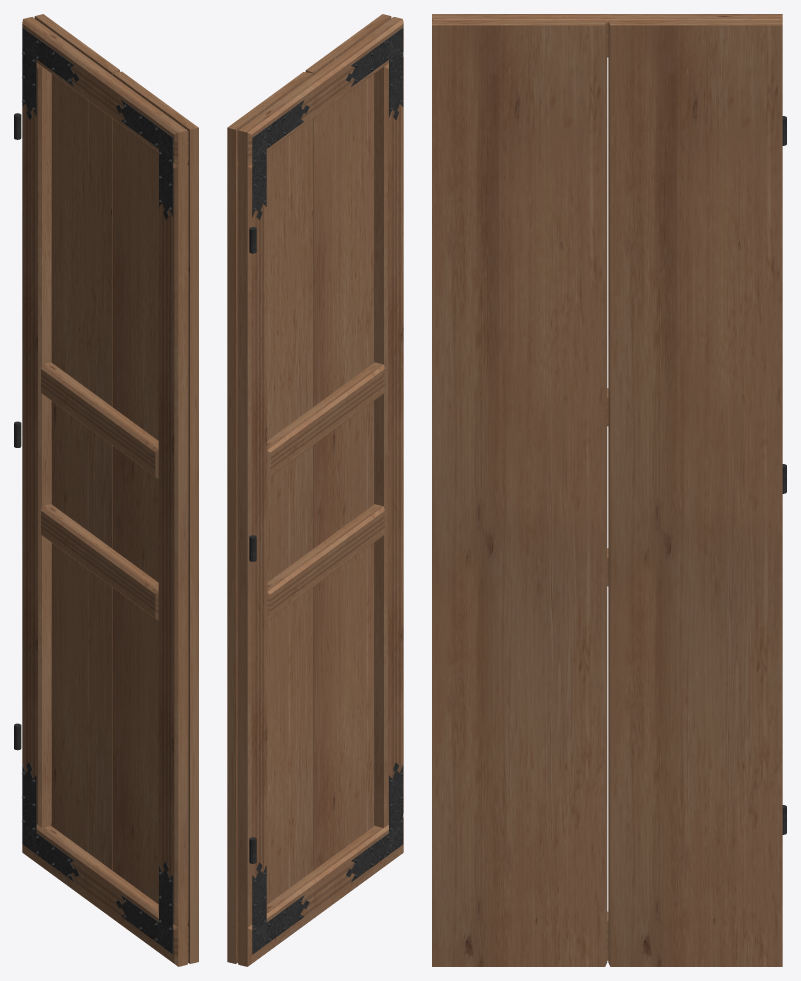
The model's file is SM_JSH_DoorB.fbx.
The picture shows the model from 3 angles, left to right: view 1: azimuth 30°, elevation 25°; view 2: azimuth 150°, elevation 25°; view 3: azimuth 270°, elevation 25°; orthographic projection. The views are drawn at different scales.
Visible parts, largest first — view 1: SM_JSH_DoorB; view 2: SM_JSH_DoorB; view 3: SM_JSH_DoorB.
Part boxes in pixels (x1,y1,x2,y2): SM_JSH_DoorB: (14,14,198,966); SM_JSH_DoorB: (227,14,403,966); SM_JSH_DoorB: (432,14,786,966).
Size of the model in its own units: 5.78 by 54.62 by 160.
1 material, 1 textured.
